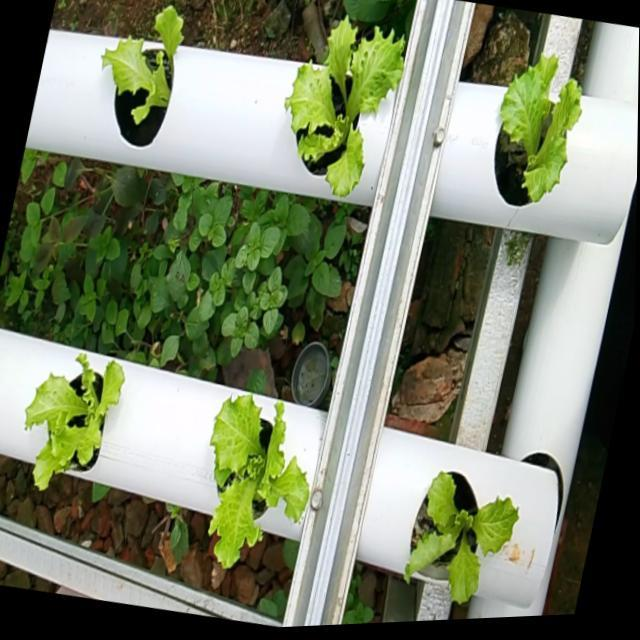Baby: (286, 11, 408, 193), (211, 390, 312, 564), (406, 465, 521, 598), (28, 351, 127, 488), (496, 51, 583, 202), (103, 6, 184, 147)
